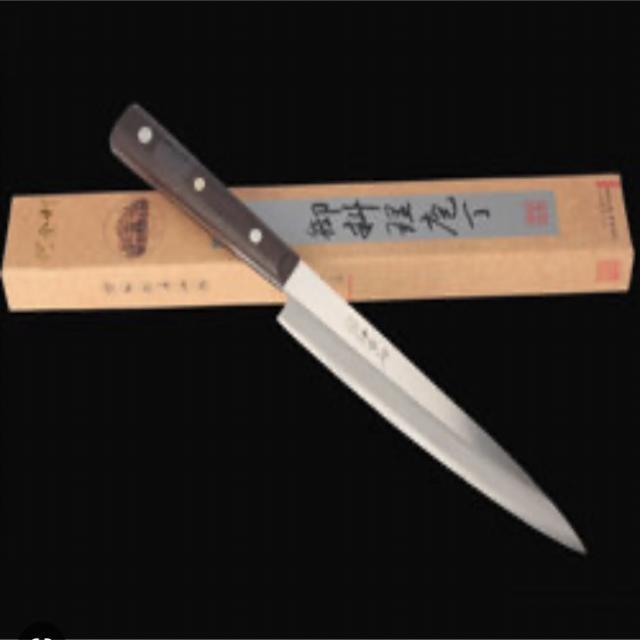Knife: (100, 90, 600, 580)
